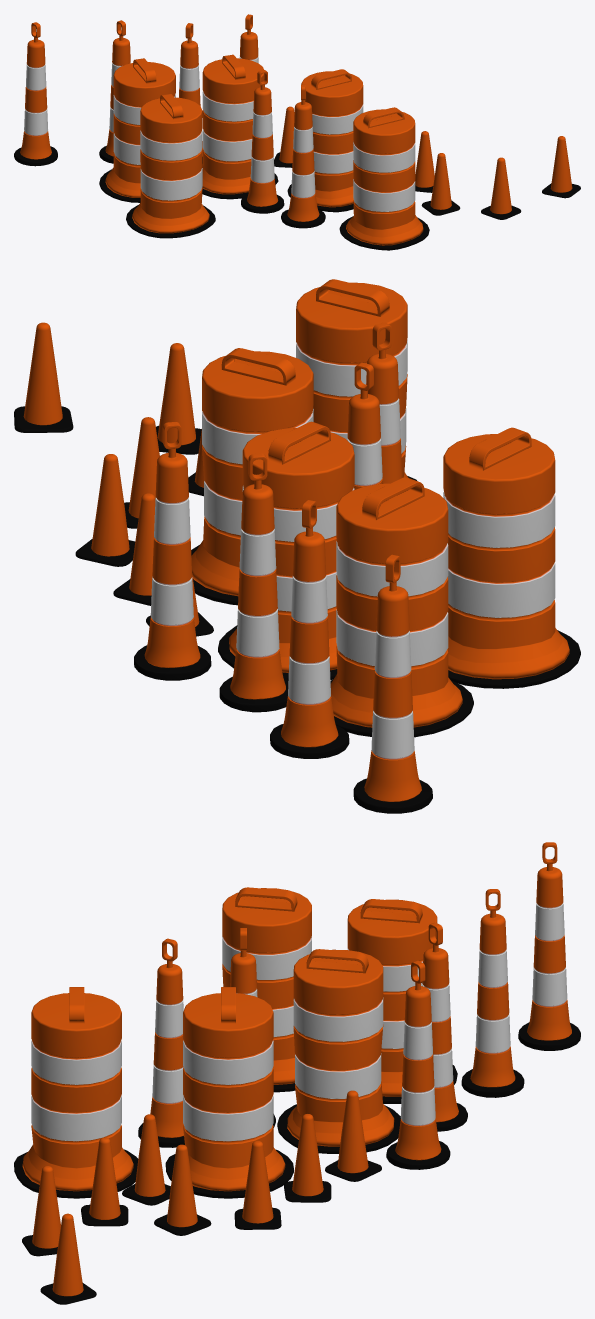
File: barrierCollection.fbx
3 renders of one model, top to bottom at view 1: azimuth 30°, elevation 25°; view 2: azimuth 150°, elevation 25°; view 3: azimuth 270°, elevation 25°, orthographic. The views are drawn at different scales.
Visible parts, largest first — view 1: kone_10, kone_13, kone_04, kone_03, kone_09, kone_11, kone_05, kone_08, kone_07, kone_12, kone_18, kone_15 (+4 smaller); view 2: kone_10, kone_09, kone_03, kone_04, kone_13, kone_11, kone_12, kone_02, kone_07, kone_19, kone_16, kone_08 (+4 smaller); view 3: kone_13, kone_03, kone_04, kone_10, kone_09, kone_02, kone_11, kone_12, kone_08, kone_07, kone_15, kone_01 (+7 smaller).
Boxes of the visible parts, x1,y1,x2,y2 form: kone_10: [126, 94, 215, 238]; kone_13: [339, 107, 429, 250]; kone_04: [202, 54, 278, 199]; kone_03: [287, 69, 363, 212]; kone_09: [99, 58, 175, 202]; kone_11: [14, 22, 57, 166]; kone_05: [241, 70, 284, 213]; kone_08: [281, 84, 325, 228]; kone_07: [179, 23, 203, 163]; kone_12: [99, 20, 130, 163]; kone_18: [481, 157, 521, 219]; kone_15: [421, 153, 460, 215]; kone_10: [443, 427, 580, 688]; kone_09: [330, 477, 473, 737]; kone_03: [191, 348, 313, 605]; kone_04: [218, 421, 354, 679]; kone_13: [296, 279, 416, 480]; kone_11: [353, 554, 432, 813]; kone_12: [270, 500, 349, 758]; kone_02: [134, 422, 211, 680]; kone_07: [219, 453, 288, 712]; kone_19: [14, 322, 73, 432]; kone_16: [75, 454, 135, 566]; kone_08: [366, 322, 402, 483]; kone_13: [14, 987, 138, 1198]; kone_03: [165, 987, 293, 1198]; kone_04: [277, 949, 400, 1153]; kone_10: [222, 887, 311, 1092]; kone_09: [347, 899, 457, 1103]; kone_02: [386, 960, 450, 1169]; kone_11: [518, 842, 580, 1050]; kone_12: [461, 889, 524, 1097]; kone_08: [138, 938, 184, 1147]; kone_07: [422, 922, 467, 1131]; kone_15: [81, 1137, 128, 1226]; kone_01: [284, 1114, 331, 1202].
Bounding box in the file's own units: 241 × 78.72 × 206.
